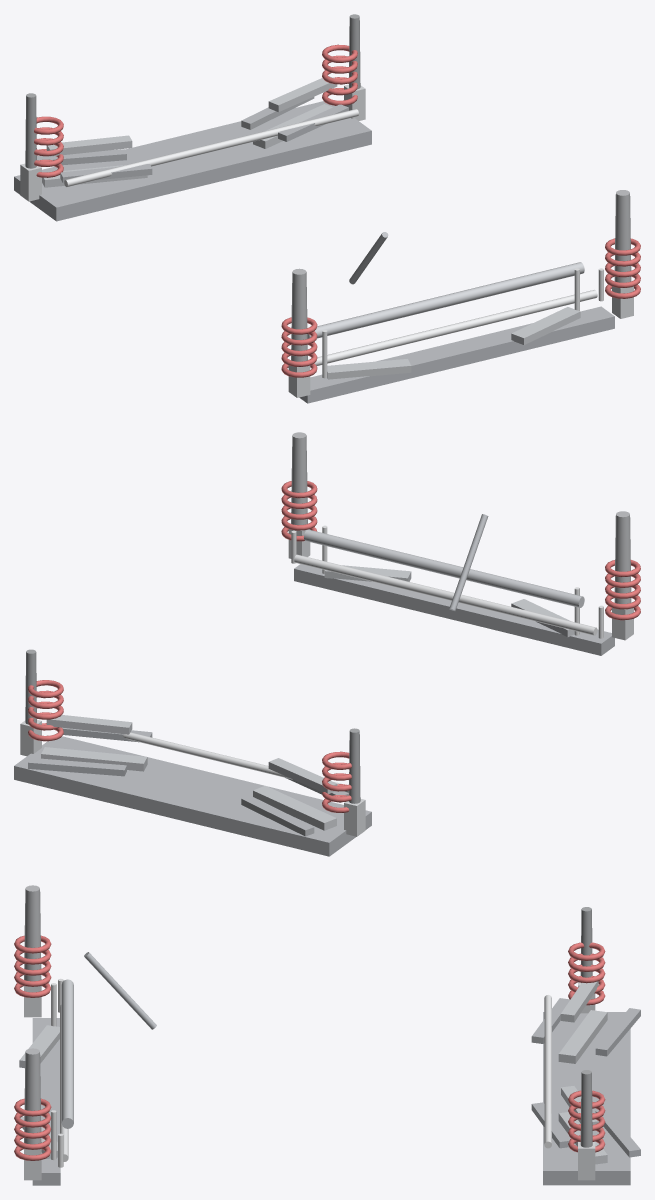
File: susp.glb
The picture shows the model from 3 angles, top to bottom: view 1: azimuth 30°, elevation 25°; view 2: azimuth 150°, elevation 25°; view 3: azimuth 270°, elevation 25°; orthographic projection. The views are drawn at different scales.
Parts seen in each view (by area): view 1: rearSubframe, frontSubframe, steeringRack, frontAntiRollBar, rearAntiRollBar, frontStrutRight, frontStrutLeft, frontLowerControlArmLeft, frontLowerControlArmRight, rearArmUpper_Left, rearArmUpper_Right, rearShockAbsorberLeft (+9 smaller); view 2: rearSubframe, frontSubframe, steeringRack, frontAntiRollBar, rearArmLower_Left, rearArmLower_Right, rearAntiRollBar, frontStrutLeft, frontStrutRight, rearArmToe_Right, rearArmUpper_Right, rearArmToe_Left (+6 smaller); view 3: rearSubframe, frontSubframe, steeringRack, frontStrutLeft, frontStrutRight, rearArmLower_Left, rearAntiRollBar, rearShockAbsorberRight, rearArmToe_Left, rearArmUpper_Left, rearArmToe_Right, steeringColumn (+9 smaller).
Boxes of the visible parts, x1=… form: rearSubframe: x1=14, y1=101, x2=371, y2=221; frontSubframe: x1=299, y1=306, x2=614, y2=403; steeringRack: x1=307, y1=262, x2=584, y2=338; frontAntiRollBar: x1=308, y1=290, x2=597, y2=365; rearAntiRollBar: x1=64, y1=109, x2=358, y2=186; frontStrutRight: x1=614, y1=190, x2=631, y2=282; frontStrutLeft: x1=291, y1=268, x2=307, y2=361; frontLowerControlArmLeft: x1=327, y1=359, x2=411, y2=379; frontLowerControlArmRight: x1=511, y1=307, x2=580, y2=344; rearArmUpper_Left: x1=46, y1=135, x2=132, y2=156; rearArmUpper_Right: x1=268, y1=76, x2=337, y2=111; rearShockAbsorberLeft: x1=25, y1=93, x2=36, y2=168; rearSubframe: x1=14, y1=736, x2=371, y2=856; frontSubframe: x1=294, y1=564, x2=614, y2=655; steeringRack: x1=303, y1=529, x2=584, y2=607; frontAntiRollBar: x1=294, y1=554, x2=597, y2=635; rearArmLower_Left: x1=253, y1=785, x2=336, y2=830; rearArmLower_Right: x1=41, y1=747, x2=147, y2=771; rearAntiRollBar: x1=122, y1=732, x2=348, y2=793; frontStrutLeft: x1=614, y1=511, x2=631, y2=603; frontStrutRight: x1=291, y1=432, x2=307, y2=524; rearArmToe_Right: x1=28, y1=757, x2=126, y2=776; rearArmUpper_Right: x1=46, y1=713, x2=132, y2=734; rearArmToe_Left: x1=241, y1=795, x2=314, y2=836; rearSubframe: x1=543, y1=1012, x2=630, y2=1185; frontSubframe: x1=32, y1=1018, x2=60, y2=1185; steeringRack: x1=61, y1=979, x2=73, y2=1128; frontStrutLeft: x1=24, y1=885, x2=41, y2=981; frontStrutRight: x1=24, y1=1048, x2=41, y2=1144; rearArmLower_Left: x1=558, y1=1010, x2=607, y2=1063; rearAntiRollBar: x1=544, y1=995, x2=551, y2=1148; rearShockAbsorberRight: x1=580, y1=1070, x2=592, y2=1147; rearArmToe_Left: x1=595, y1=1008, x2=640, y2=1056; rearArmUpper_Left: x1=561, y1=981, x2=598, y2=1022; rearArmToe_Right: x1=595, y1=1109, x2=640, y2=1157; steeringColumn: x1=84, y1=952, x2=156, y2=1029.
Size of the model in its own units: 2.41 by 0.87 by 3.58.
